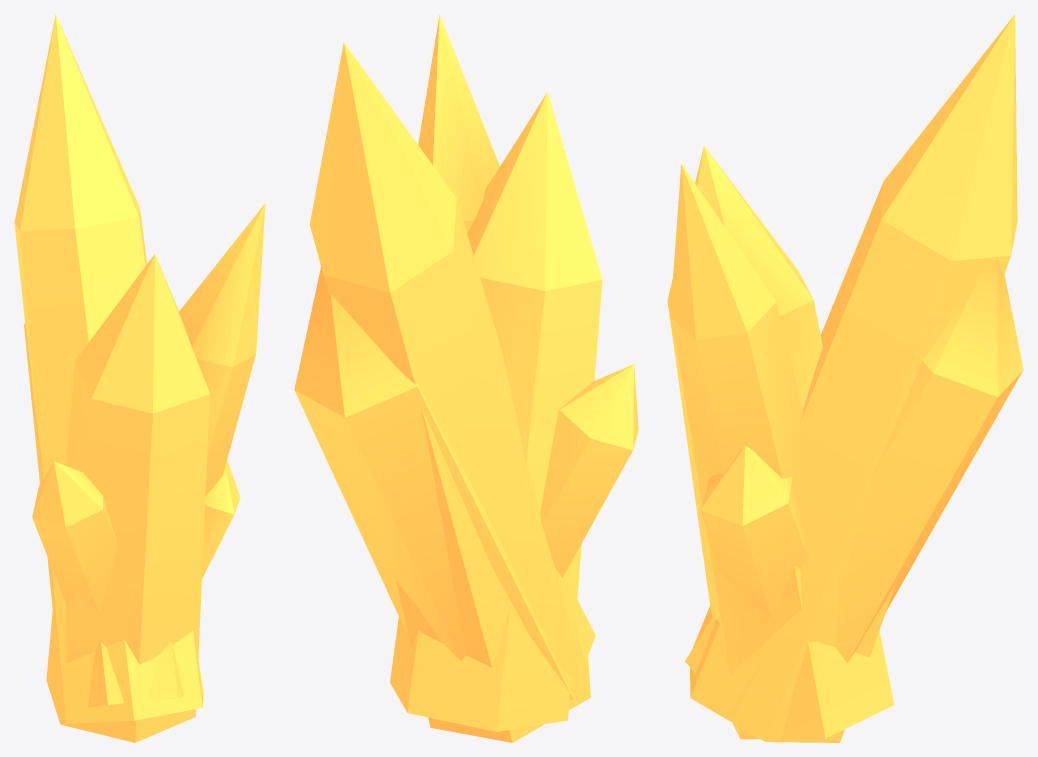
Rendered from obj_deco_cristales_3.glb.
3 views of the same model, side by side, from view 1: azimuth 30°, elevation 25°; view 2: azimuth 150°, elevation 25°; view 3: azimuth 270°, elevation 25° (orthographic). The views are drawn at different scales.
Parts seen in each view (by area): view 1: propforge-libre-deco_cristales; view 2: propforge-libre-deco_cristales; view 3: propforge-libre-deco_cristales.
Boxes of the visible parts, x1=… form: propforge-libre-deco_cristales: x1=14, y1=14, x2=265, y2=742; propforge-libre-deco_cristales: x1=294, y1=14, x2=638, y2=742; propforge-libre-deco_cristales: x1=667, y1=14, x2=1023, y2=742.
Size of the model in its own units: 0.1515 by 0.4585 by 0.2036.
